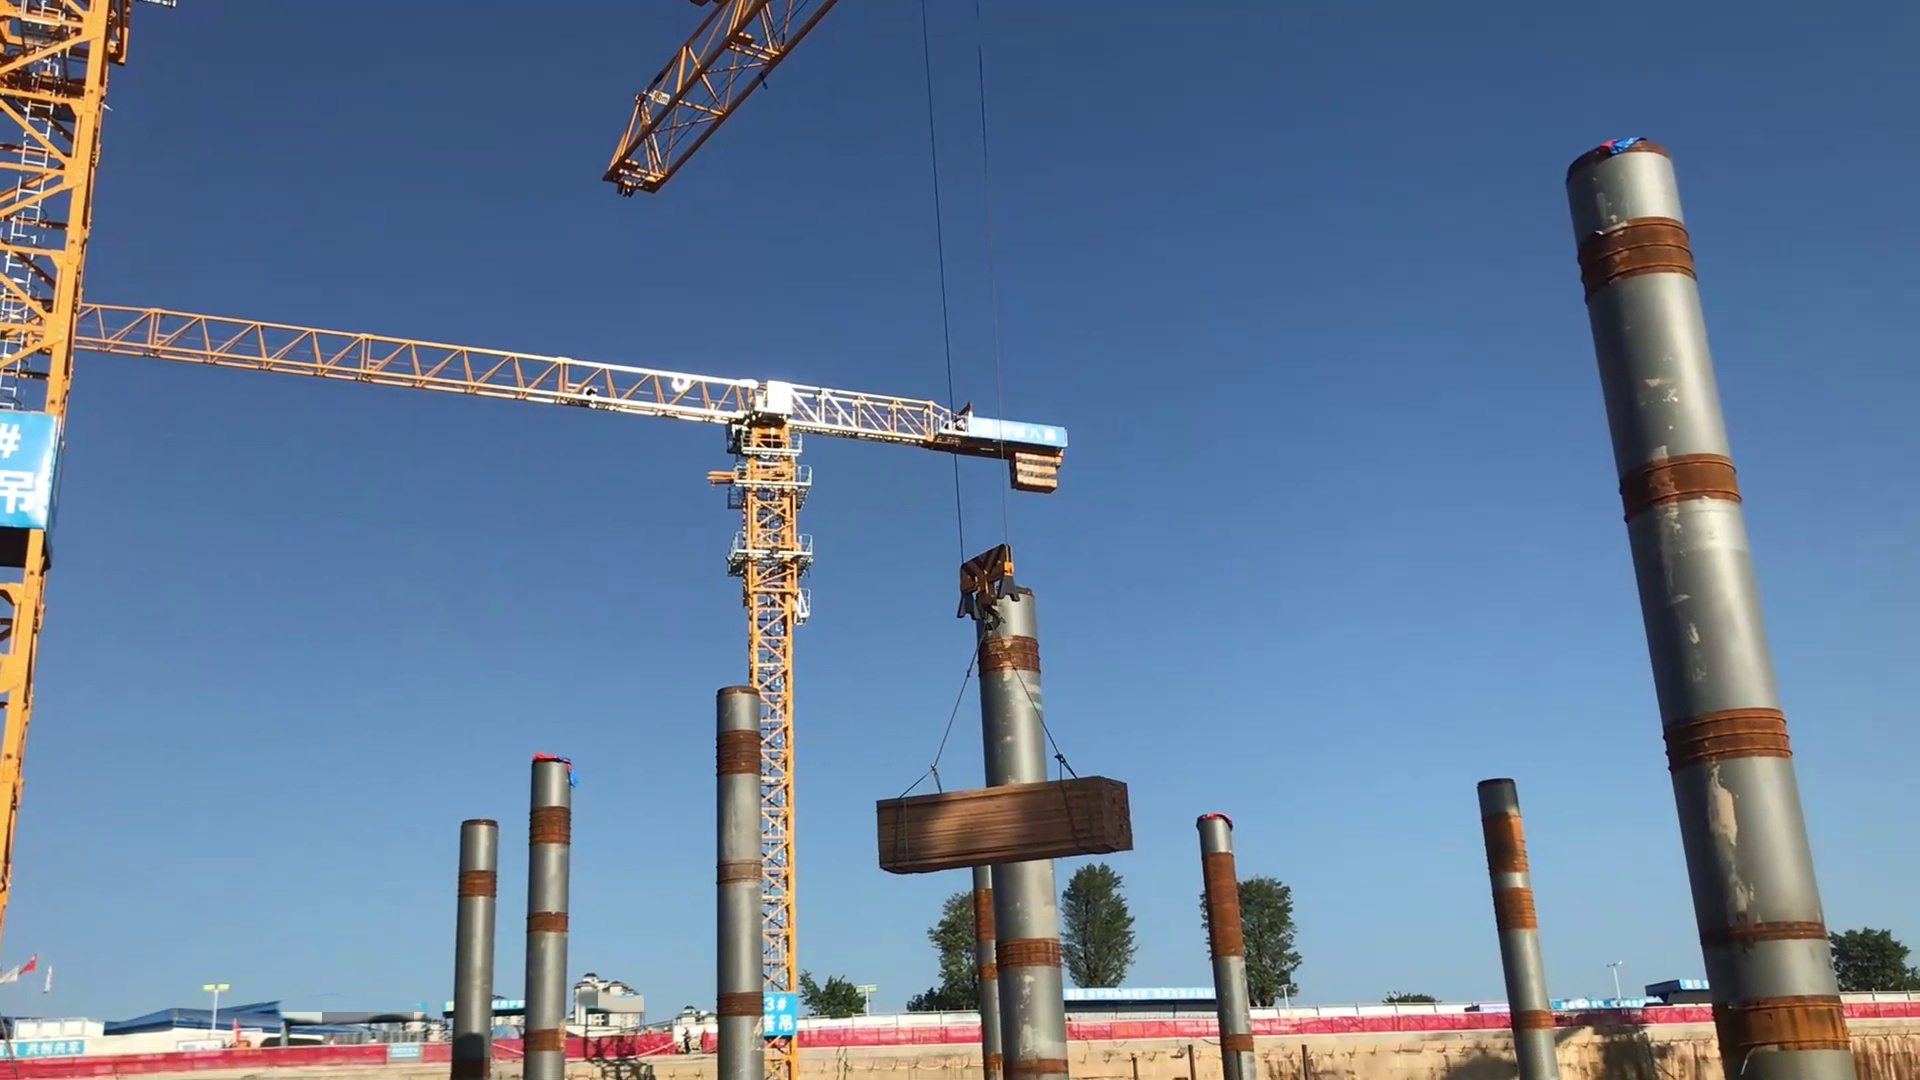hook: (951, 539, 1021, 616)
wood: (858, 756, 1153, 872)
